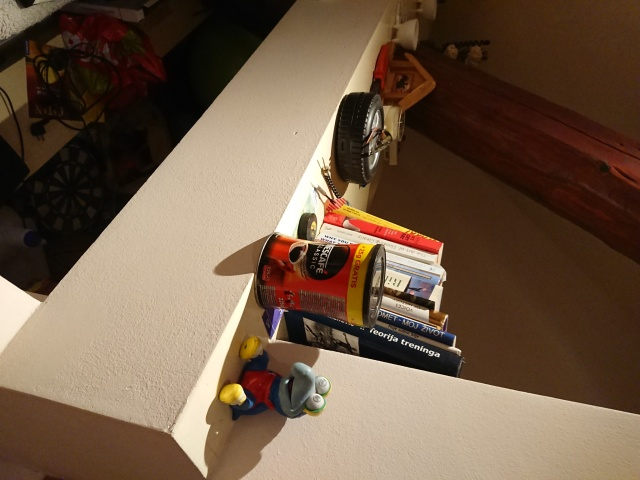Nescafe Classic 225g: (251, 229, 390, 332)
